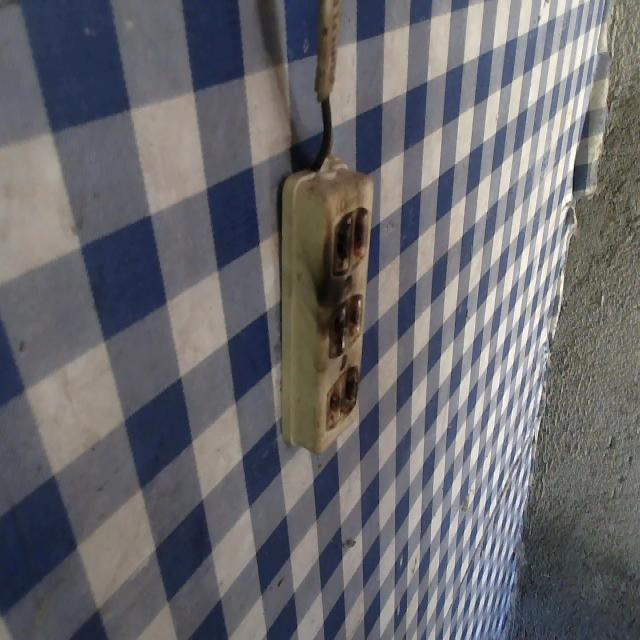-: (328, 207, 369, 273), (328, 290, 362, 354), (323, 364, 359, 424)
